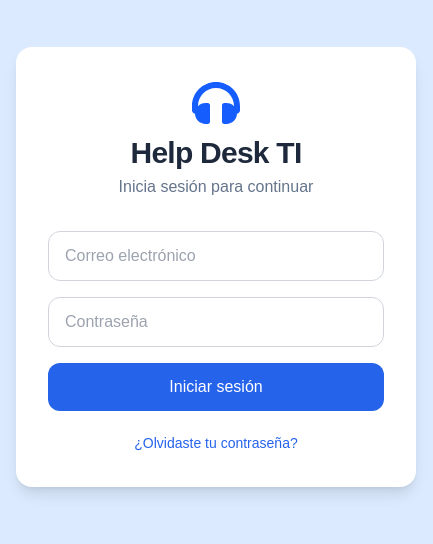
Test case: LoginPage › debe mostrar error si la cuenta está bloqueada
The width and height of the screenshot is (433, 544).
Step 1. Type "test@test.com" into the field with placeholder "Correo electrónico" → (216, 256), box [48, 231, 384, 281]
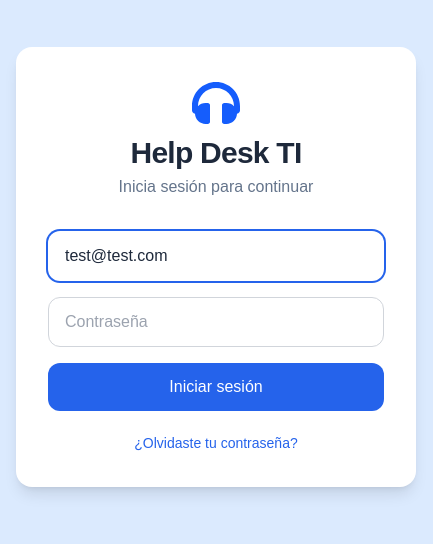
Step 2. Type "wrongpassword" into the password field with placeholder "Contraseña" → (216, 322), box [48, 297, 384, 347]
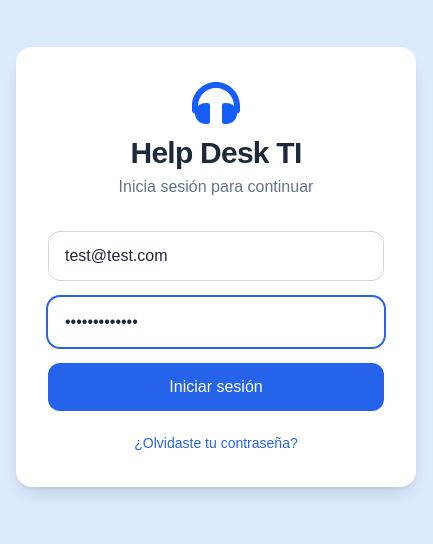
Step 3. Click the button "Iniciar sesión" → (216, 387), box [48, 363, 384, 411]
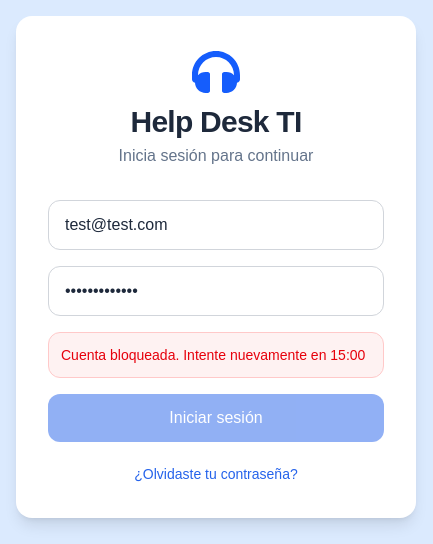
Expected: the text "Cuenta bloqueada. Intente nuevamente en 15:00" is shown, [48, 332, 384, 378]
